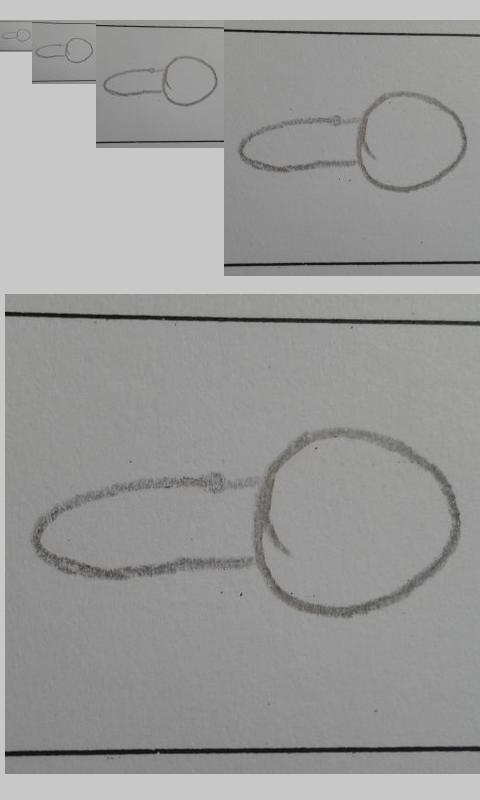switch: (30, 426, 462, 620), (238, 90, 469, 193), (103, 55, 219, 107), (34, 37, 94, 64), (1, 28, 32, 42)
